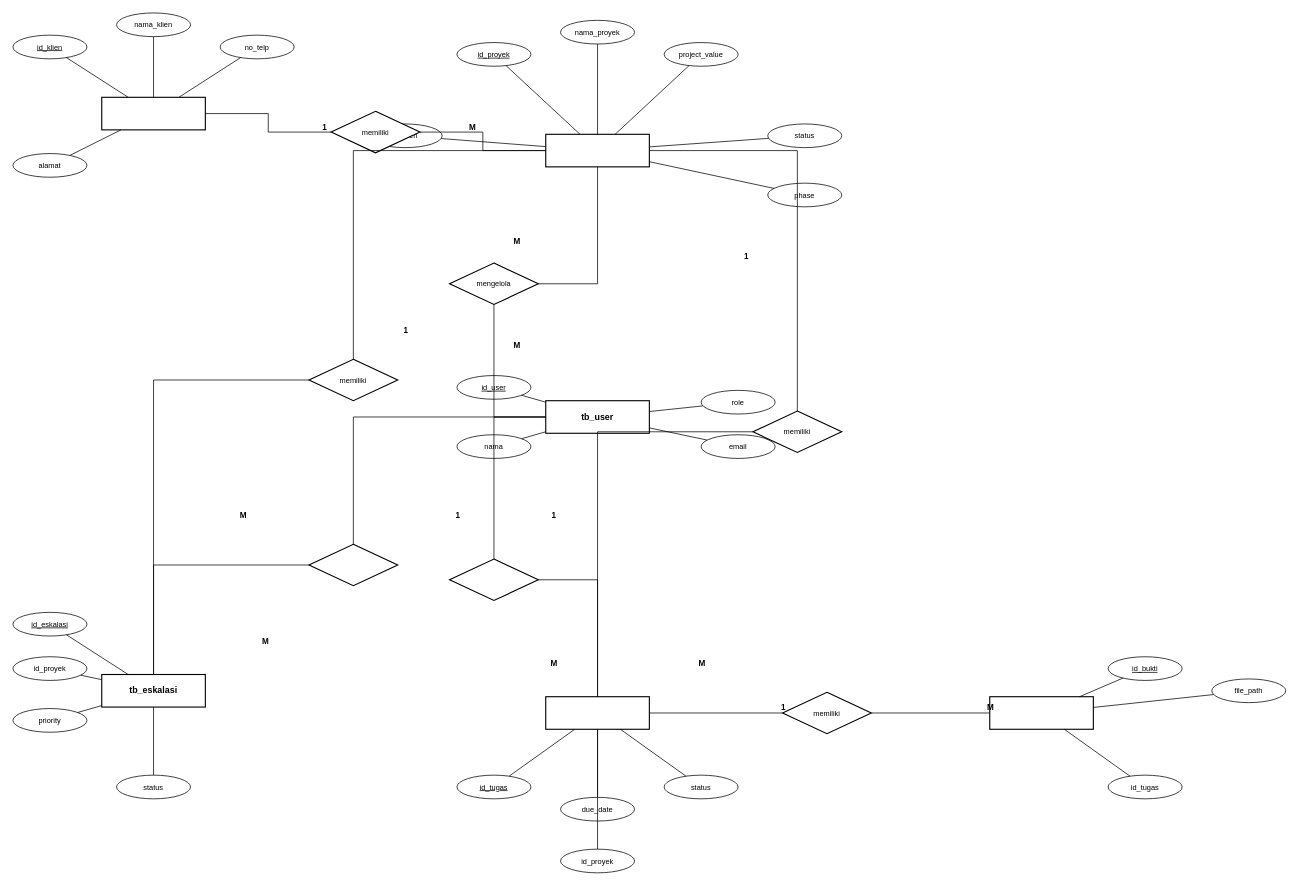
This 1299x886 diagram has some shape labels left out. Each missing label, with the box of its shape:
melaporkan: (308, 543, 398, 586)
mengerjakan: (449, 558, 539, 601)
tb_bukti: (989, 696, 1094, 729)
tb_klien: (101, 96, 206, 130)
tb_proyek: (545, 133, 650, 167)
tb_tugas: (545, 696, 650, 729)
